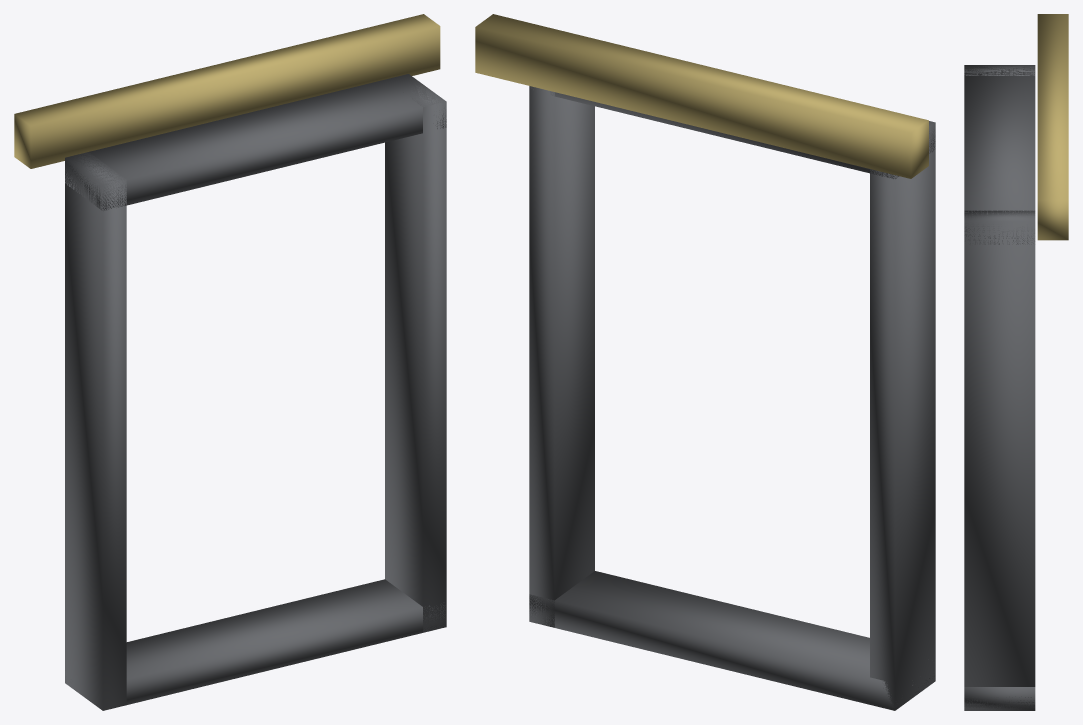
The model's file is egress_window_motel_w72_h110_s88_d16.glb.
3 renders of one model, left to right at view 1: azimuth 30°, elevation 25°; view 2: azimuth 150°, elevation 25°; view 3: azimuth 270°, elevation 25°, orthographic. The views are drawn at different scales.
Parts seen in each view (by area): view 1: world; view 2: world; view 3: world.
Boxes of the visible parts, <box> form: world: <box>14,14,446,710</box>; world: <box>475,14,935,710</box>; world: <box>964,14,1068,710</box>.
Size of the model in its own units: 0.9952 by 1.31 by 0.235.
